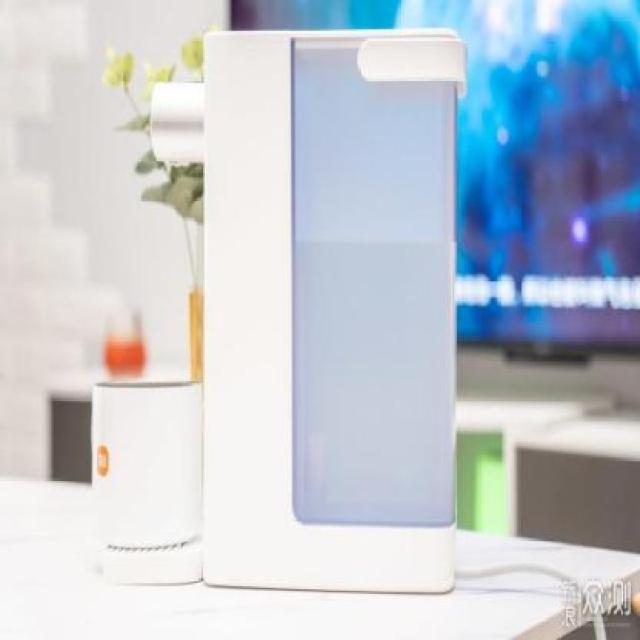cooler: (152, 31, 460, 595)
